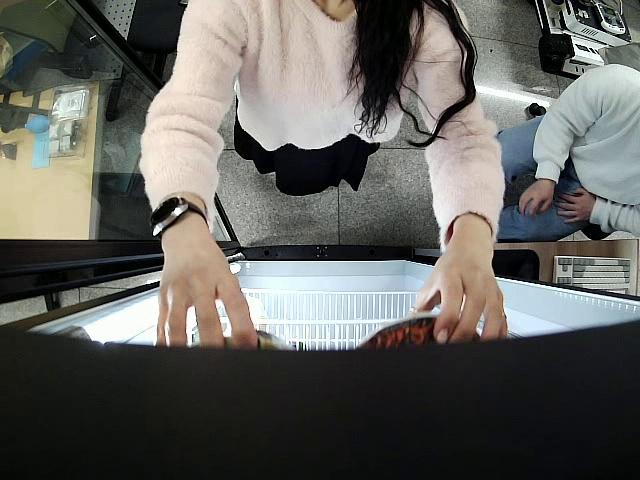00_hand: (157, 233, 258, 351), (407, 250, 509, 344)
